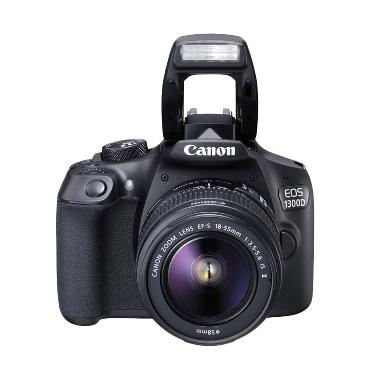kamera: (49, 28, 320, 352)
